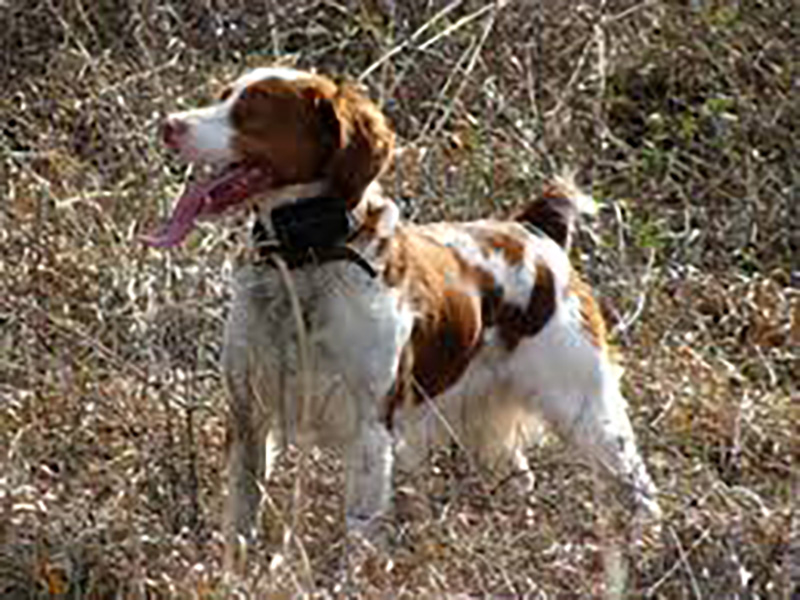cane da caccia: (145, 60, 675, 551)
